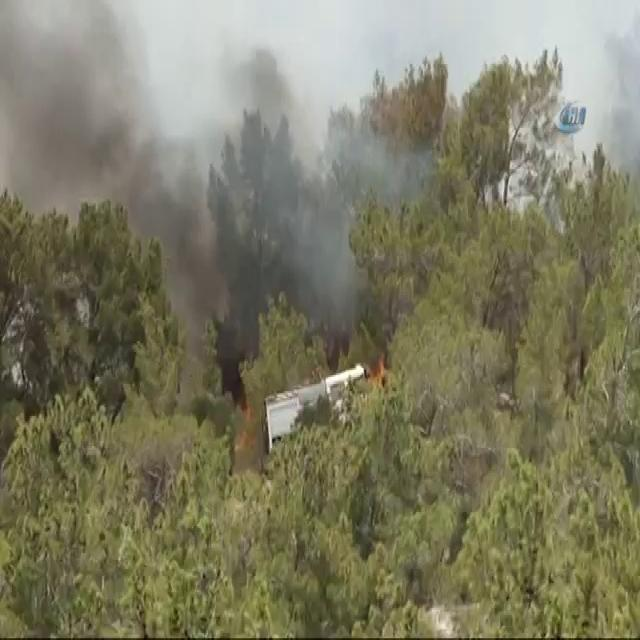Fire: (358, 339, 389, 388), (240, 401, 257, 468)
Smoke: (232, 61, 365, 291), (5, 50, 143, 184)
